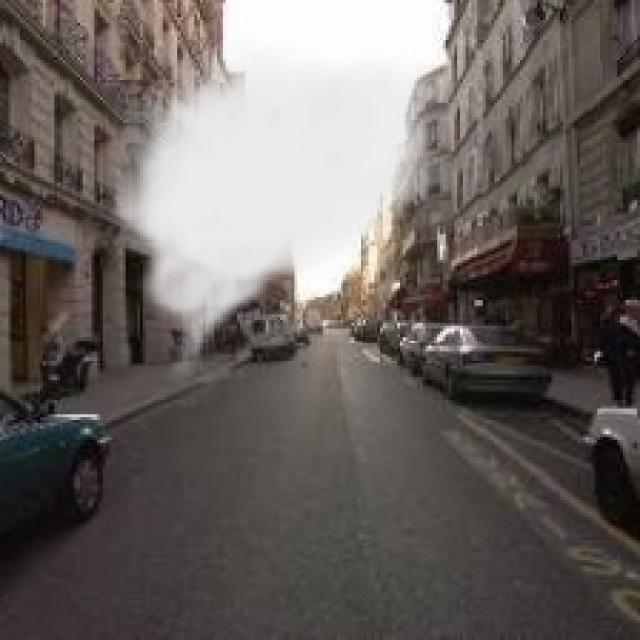Smoke: (100, 34, 457, 386)
